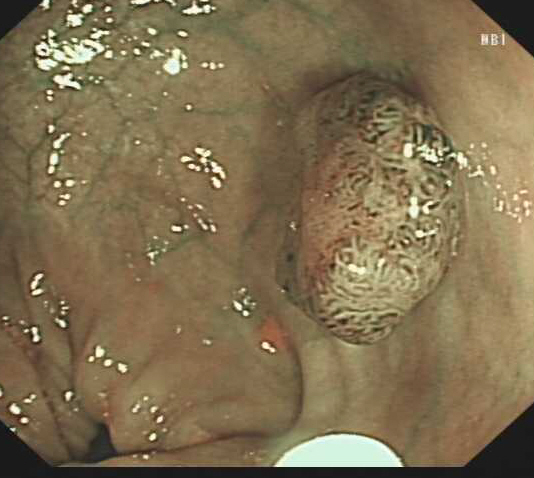adenoma: (283, 72, 466, 346)
